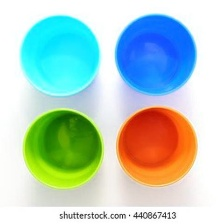glass: (14, 104, 109, 196), (107, 4, 199, 98), (109, 105, 203, 195), (13, 10, 104, 101)
